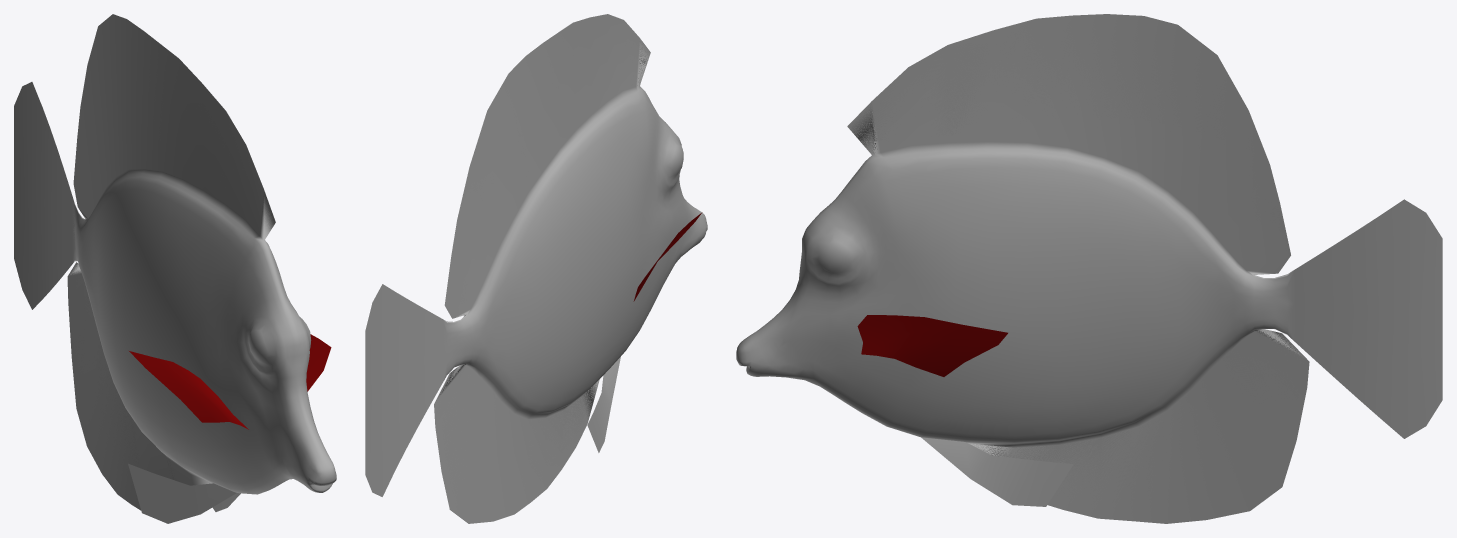
The model's file is Acanthuridae_B.fbx.
3 views of the same model, side by side, from view 1: azimuth 30°, elevation 25°; view 2: azimuth 150°, elevation 25°; view 3: azimuth 270°, elevation 25° (orthographic). The views are drawn at different scales.
Visible parts, largest first — view 1: Acanthuridae_B_LOD0; view 2: Acanthuridae_B_LOD0; view 3: Acanthuridae_B_LOD0.
Boxes of the visible parts, x1,y1,x2,y2 form: Acanthuridae_B_LOD0: (14,14,336,523); Acanthuridae_B_LOD0: (365,14,707,523); Acanthuridae_B_LOD0: (736,14,1442,523).
Size of what is drawn, in the model's own units: 0.2373 by 0.8117 by 1.02.
